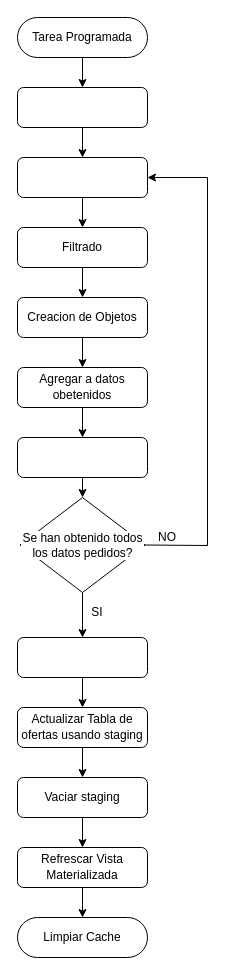
The diagram is 233 pixels wide and 975 high, and some of its shapes have lost their labels. Here are the shapes that lost their labels. From the top down, the centre of each, then its label:
At [82,107]: "BackEnd".
At [82,177]: "APIs Externas".
At [82,457]: "Delay".
At [82,657]: "Guardar datos en Base de Datos (staging)".
